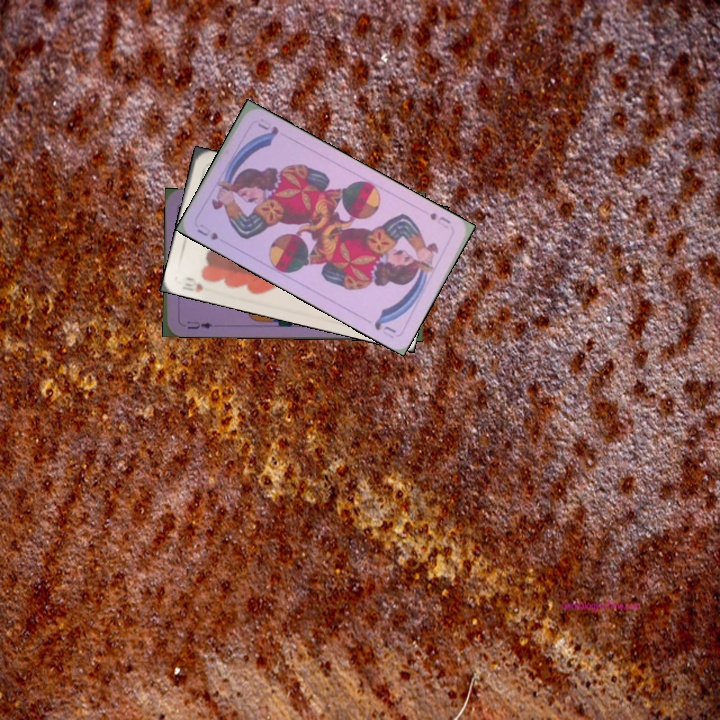EU: (183, 317, 215, 332)
H10: (178, 273, 206, 295)
SU: (193, 220, 221, 243), (425, 208, 453, 226)
